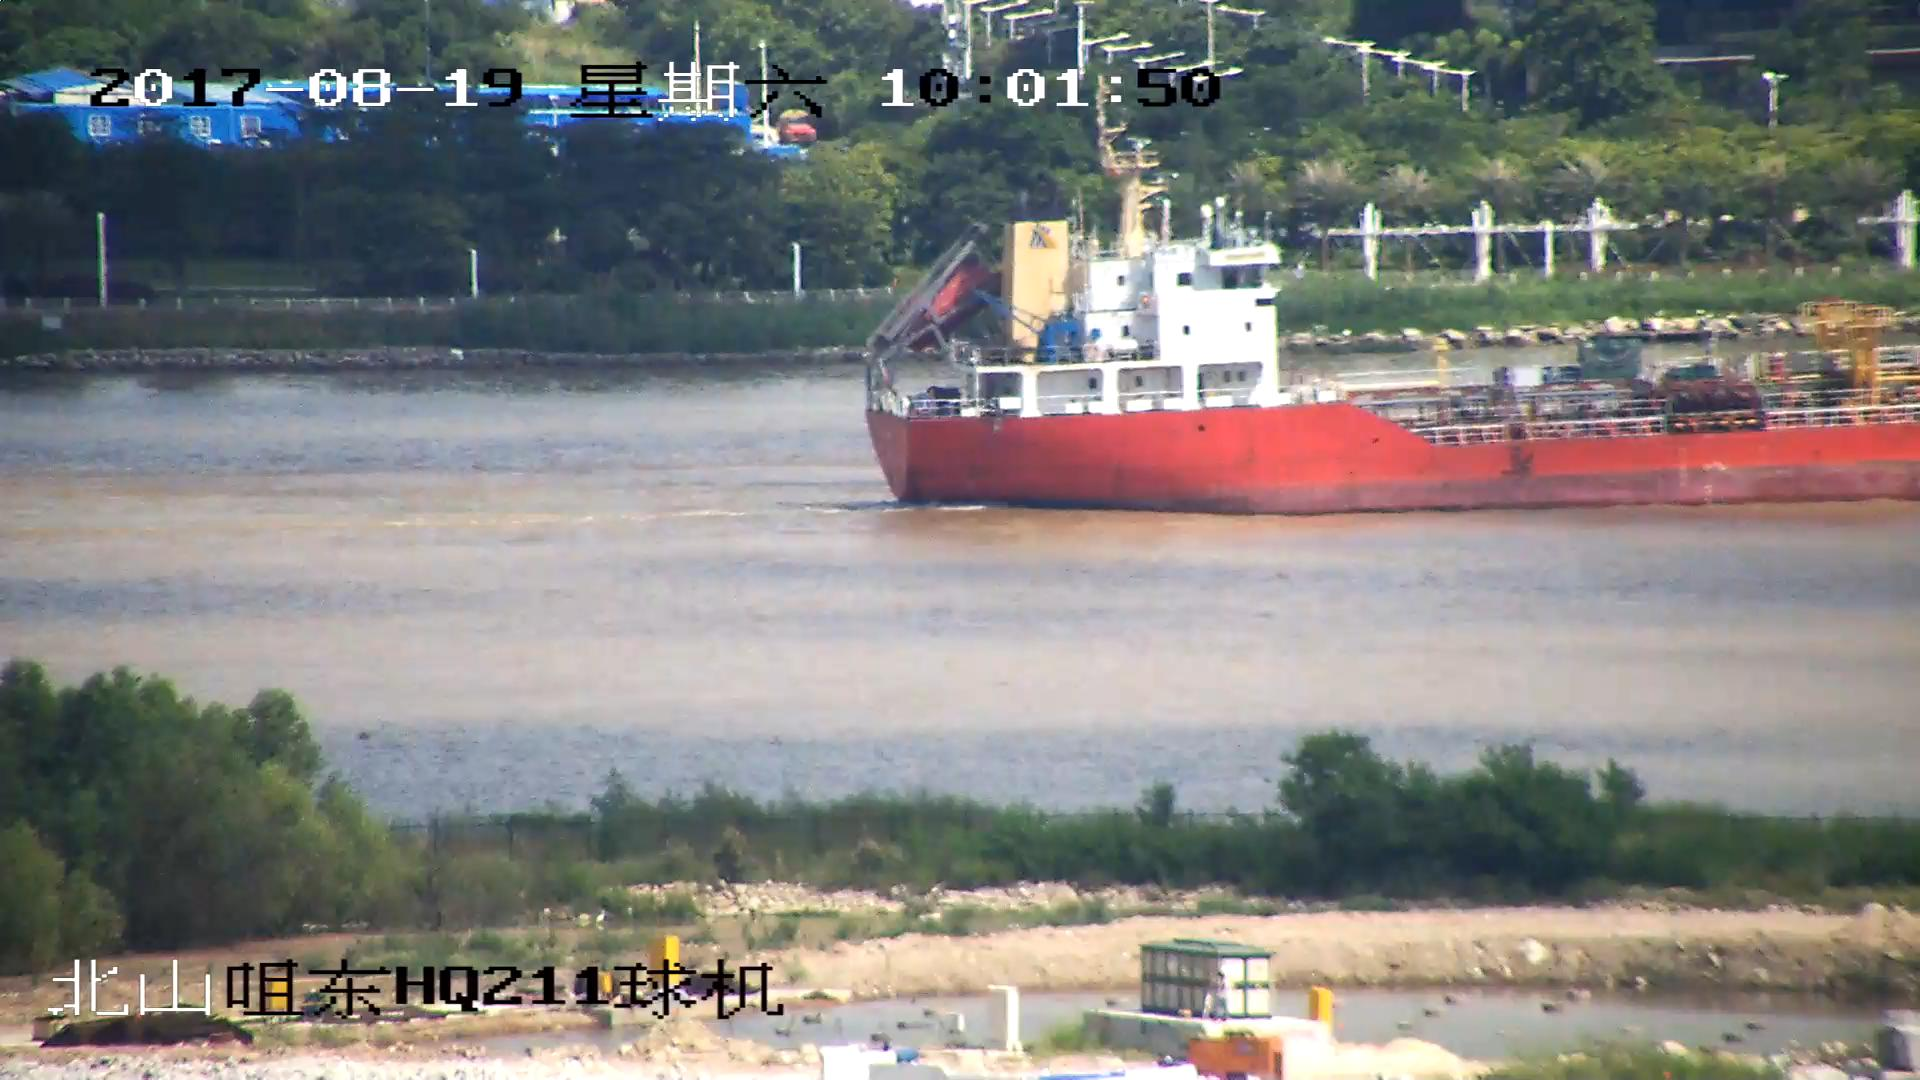general cargo ship: (868, 111, 1920, 502)
